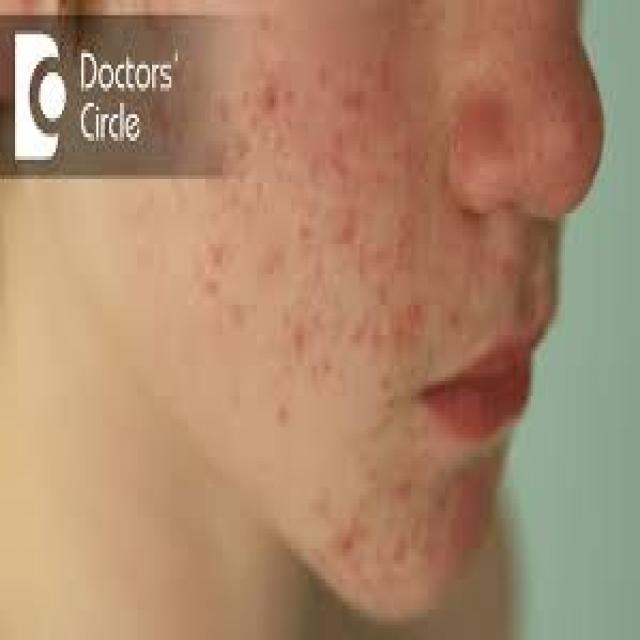Acne: (252, 44, 411, 348), (319, 496, 447, 592)
